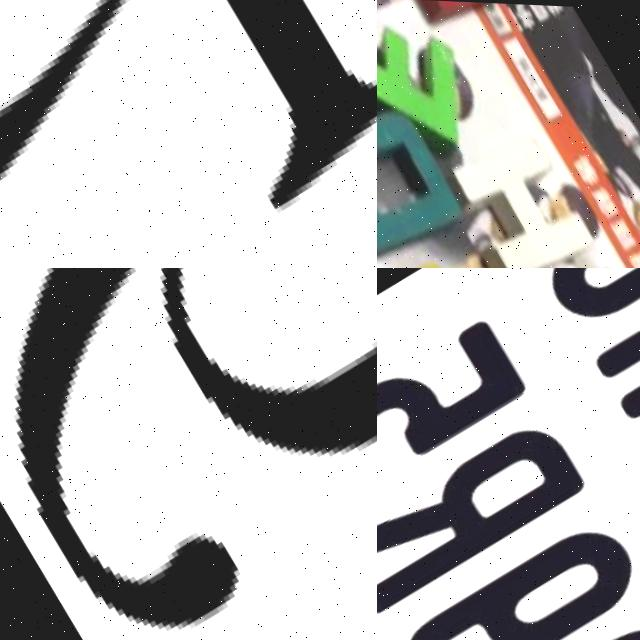5: (377, 311, 538, 534)
7: (0, 0, 377, 268)
9: (0, 268, 377, 640), (387, 499, 640, 640)
D: (377, 89, 471, 262)
F: (377, 0, 497, 173)
H: (436, 114, 607, 268)
R: (377, 401, 596, 622)
